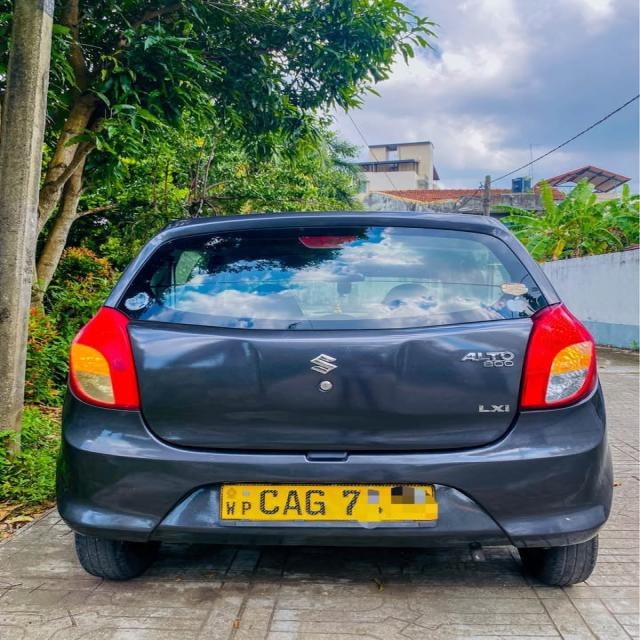Dent: (156, 339, 521, 428)
